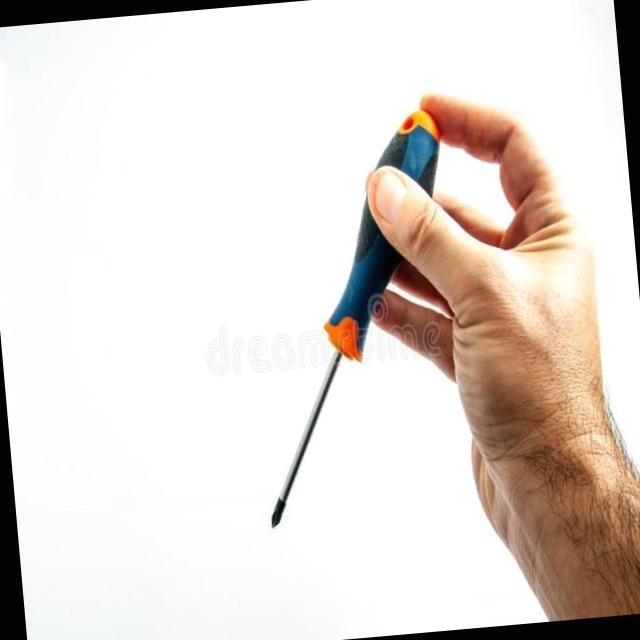screwdriver: (271, 200, 401, 527), (377, 109, 439, 194)
